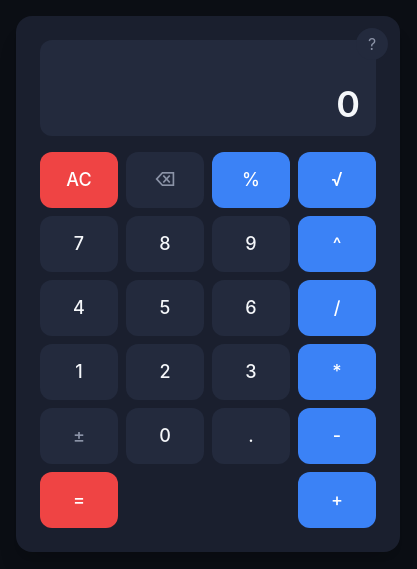
Test: CalculatorApp › clicking AC clears the display back to empty, including after a shown result (FE-06)
Click the button "2".
click(165, 372)  # box left=126, top=344, right=204, bottom=400
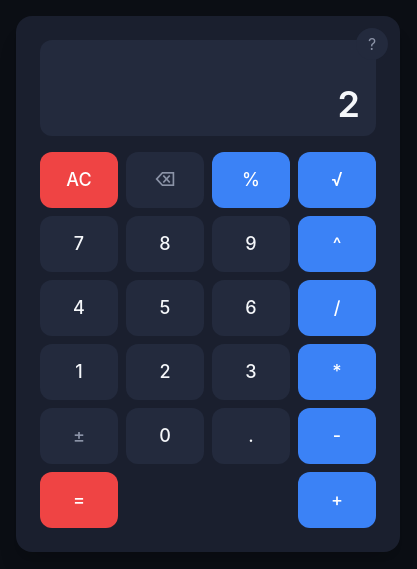
Click the button "+".
click(337, 500)  # box left=298, top=472, right=376, bottom=528
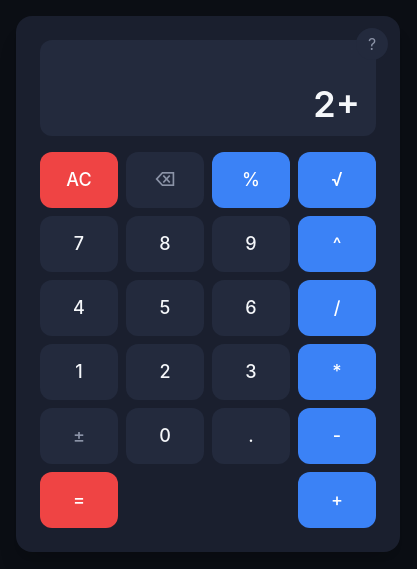
Click the button "2".
click(165, 372)  # box left=126, top=344, right=204, bottom=400
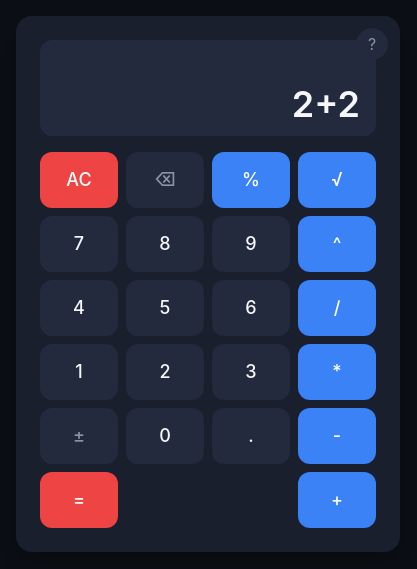
Click the button "=".
click(79, 500)  # box left=40, top=472, right=118, bottom=528
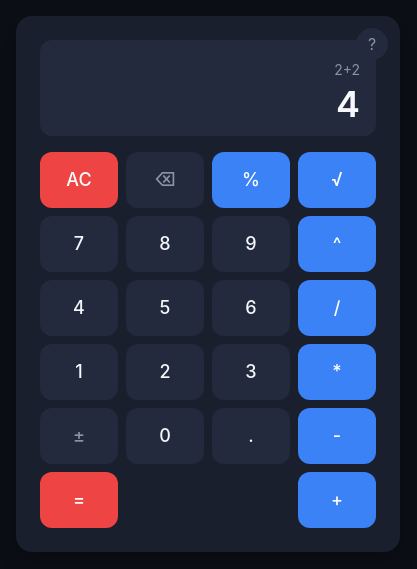
Click the button "AC".
click(79, 180)  # box left=40, top=152, right=118, bottom=208
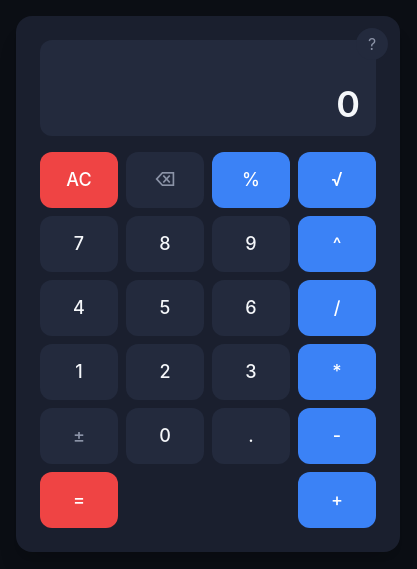
Expected: the text "0" is shown, left=336, top=82, right=360, bottom=126
Expected: the text "2+2" is gone
